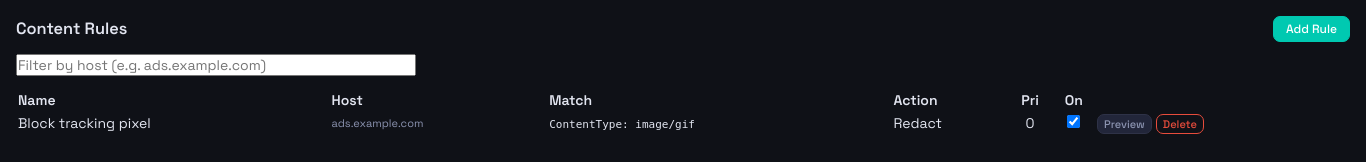
ContentRulesPanel › filters rules by host when typing
Type "nonexistent.host" into the field with placeholder "Filter by host (e.g. ads.example.com)" at (216,65), box [16,54,416,76]
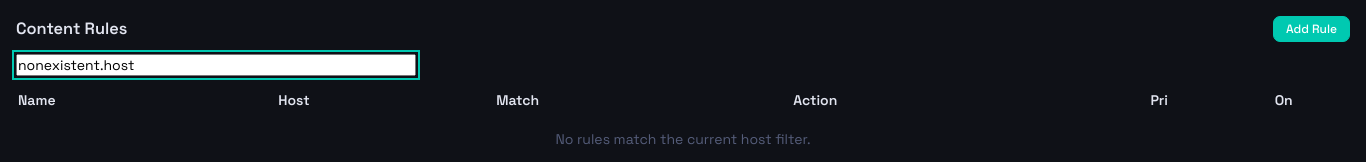
Result: the text "Block tracking pixel" is gone
